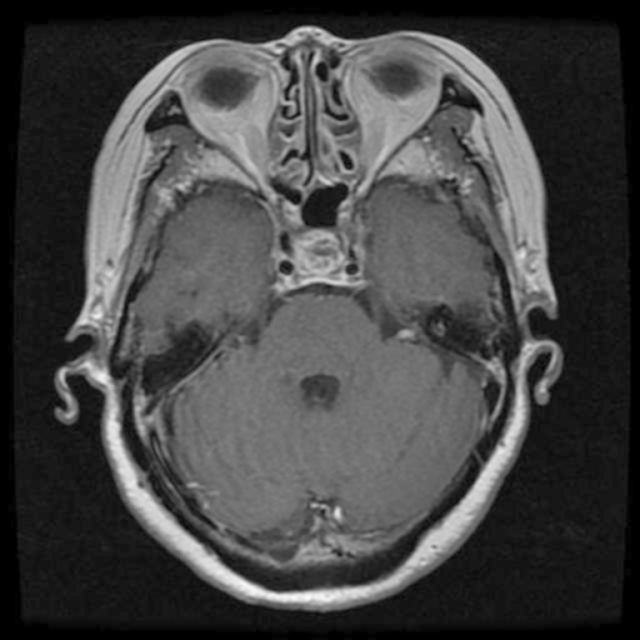no tumor: (290, 220, 362, 294)
